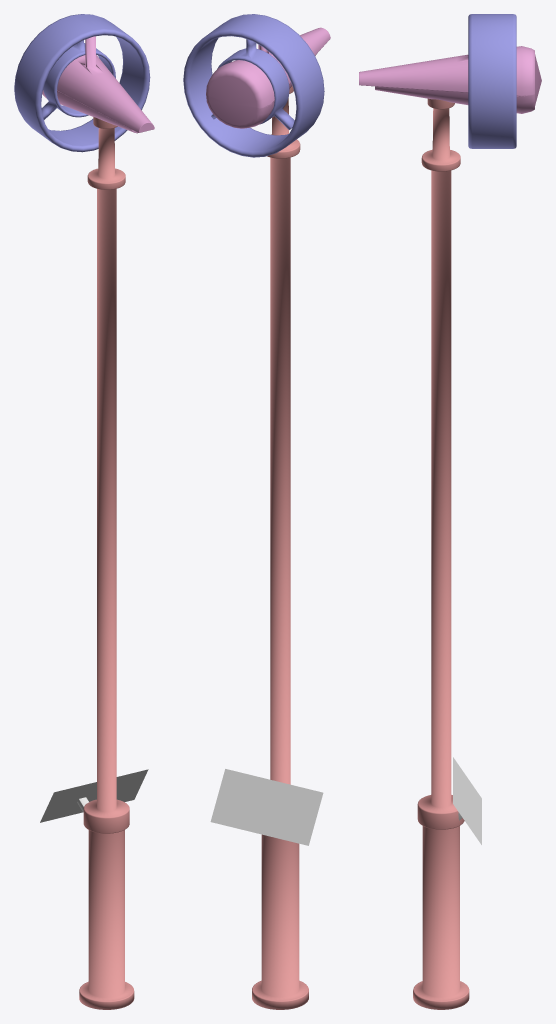
The model's file is SolarAsset02_StandingFan.fbx.
3 views of the same model, side by side, from view 1: azimuth 30°, elevation 25°; view 2: azimuth 150°, elevation 25°; view 3: azimuth 270°, elevation 25° (orthographic). The views are drawn at different scales.
Visible parts, largest first — view 1: Pole01, Casing, MidPiece, Plane007, Fan04; view 2: Pole01, Casing, Plane007, MidPiece, Fan04; view 3: Pole01, Casing, MidPiece, Plane007.
Part boxes in pixels (x1,y1,x2,y2): Pole01: [79, 117, 134, 1009]; Casing: [14, 14, 150, 152]; MidPiece: [42, 36, 154, 133]; Plane007: [40, 769, 148, 822]; Fan04: [41, 40, 115, 119]; Pole01: [252, 85, 308, 1009]; Casing: [183, 14, 324, 157]; Plane007: [210, 769, 323, 845]; MidPiece: [206, 27, 330, 128]; Fan04: [211, 39, 294, 129]; Pole01: [413, 98, 469, 1009]; Casing: [468, 14, 516, 148]; MidPiece: [359, 46, 541, 113]; Plane007: [453, 757, 481, 844].
Size of the model in its own units: 36.28 by 290 by 49.11.
